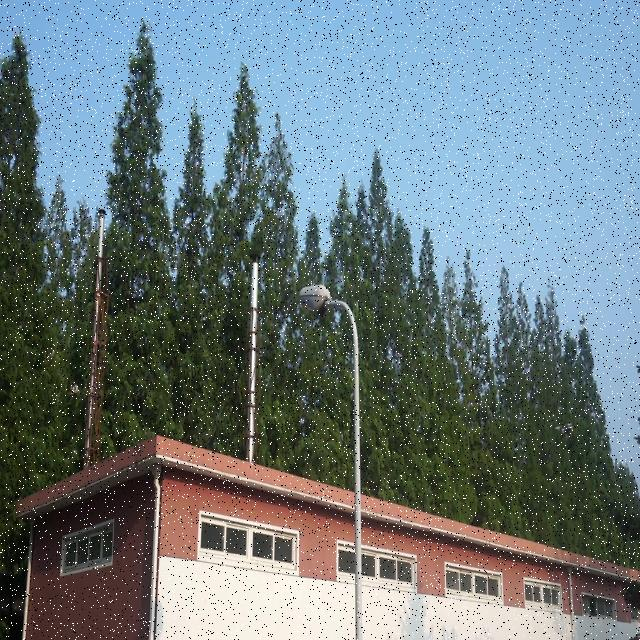UAV: (554, 422, 576, 441)
